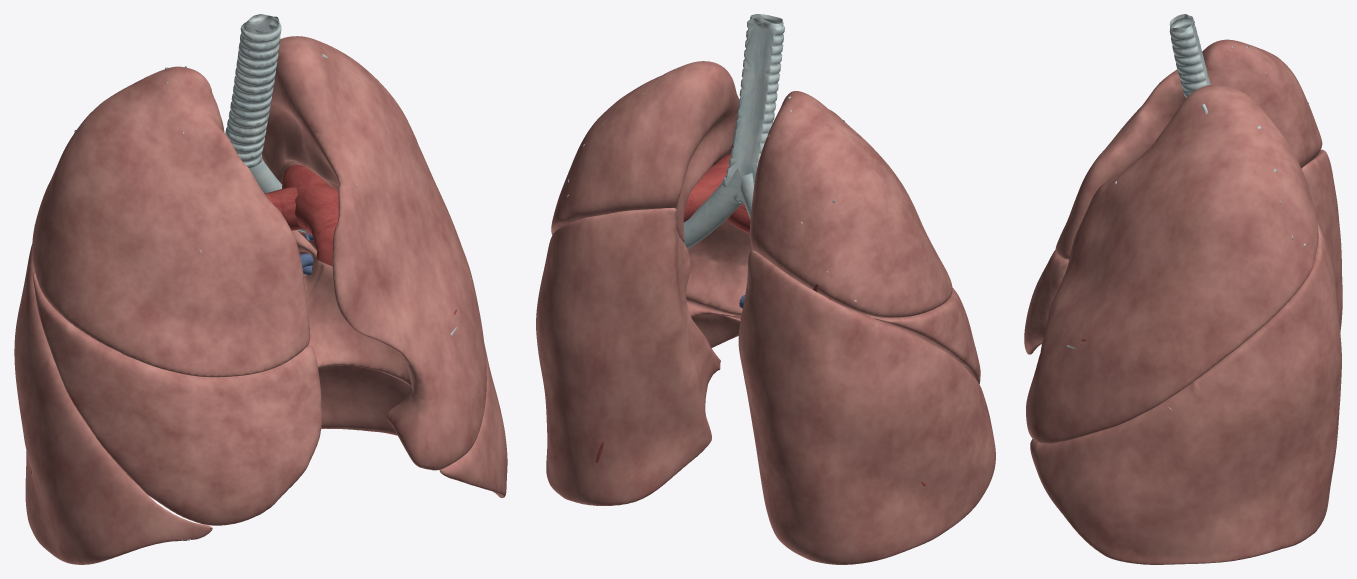
Rendered from lungs.glb.
The picture shows the model from 3 angles, left to right: view 1: azimuth 30°, elevation 25°; view 2: azimuth 150°, elevation 25°; view 3: azimuth 270°, elevation 25°; orthographic projection. The views are drawn at different scales.
Visible parts, largest first — view 1: Superior lobe of right lung.001, Superior lobe of left lung.001, Middle lobe of right lung.001, Inferior lobe of right lung.001, Inferior lobe of left lung.001, Trachea.001, Bifurcation of pulmonary trunk.001, Pulmonary trunk.001; view 2: Inferior lobe of right lung.001, Inferior lobe of left lung.001, Superior lobe of right lung.001, Superior lobe of left lung.001, Trachea.001, Middle lobe of right lung.001, Left main bronchus.001, Left pulmonary artery.001; view 3: Superior lobe of left lung.001, Inferior lobe of left lung.001, Superior lobe of right lung.001, Inferior lobe of right lung.001, Trachea.001, Middle lobe of right lung.001.
Boxes of the visible parts, left/top/right/bottom form: Superior lobe of right lung.001: left=32, top=66, right=310, bottom=377; Superior lobe of left lung.001: left=262, top=36, right=486, bottom=470; Middle lobe of right lung.001: left=33, top=272, right=322, bottom=525; Inferior lobe of right lung.001: left=14, top=244, right=212, bottom=564; Inferior lobe of left lung.001: left=292, top=230, right=507, bottom=497; Trachea.001: left=225, top=14, right=281, bottom=167; Bifurcation of pulmonary trunk.001: left=267, top=169, right=338, bottom=235; Pulmonary trunk.001: left=306, top=202, right=338, bottom=266; Inferior lobe of right lung.001: left=738, top=250, right=995, bottom=564; Inferior lobe of left lung.001: left=536, top=207, right=740, bottom=505; Superior lobe of right lung.001: left=749, top=91, right=952, bottom=317; Superior lobe of left lung.001: left=551, top=61, right=751, bottom=319; Trachea.001: left=721, top=14, right=784, bottom=204; Middle lobe of right lung.001: left=861, top=287, right=980, bottom=383; Left main bronchus.001: left=683, top=168, right=741, bottom=248; Left pulmonary artery.001: left=683, top=176, right=713, bottom=222; Superior lobe of left lung.001: left=1026, top=84, right=1318, bottom=443; Inferior lobe of left lung.001: left=1030, top=221, right=1341, bottom=564; Superior lobe of right lung.001: left=1055, top=39, right=1322, bottom=259; Inferior lobe of right lung.001: left=1041, top=149, right=1342, bottom=344; Trachea.001: left=1169, top=14, right=1210, bottom=98; Middle lobe of right lung.001: left=1024, top=250, right=1068, bottom=354.
Size of the model in its own units: 0.2608 by 0.2934 by 0.1856.
Materials: 8 (8 with a texture image).
